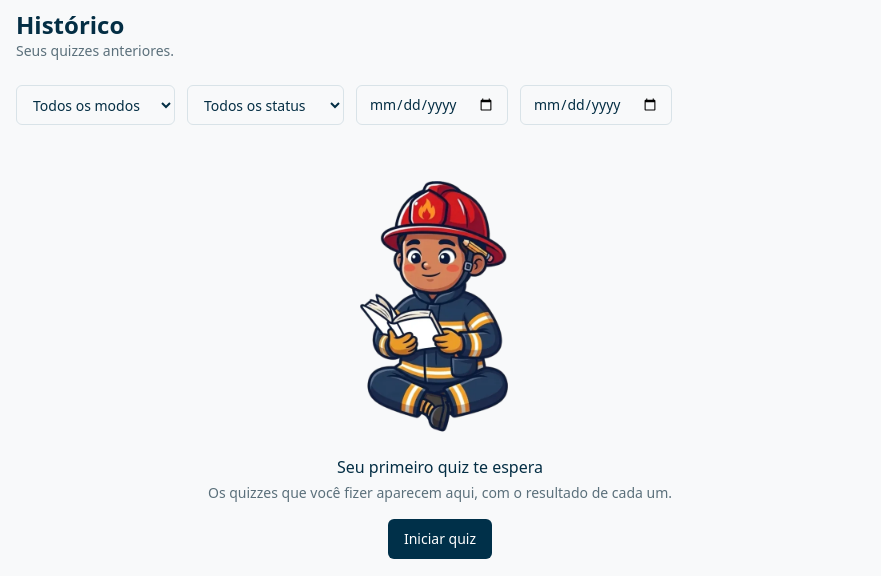
Test: HistoryPage › o filtro de status dispara uma nova busca com o valor certo
The image size is (881, 576).
Expected: the text "Seu primeiro quiz te espera" is shown, x1=337 y1=456 x2=543 y2=478
Select "Abandonado" in the 2nd dropdown showing "Todos os status". click: (266, 105)
box: x1=187 y1=85 x2=344 y2=125
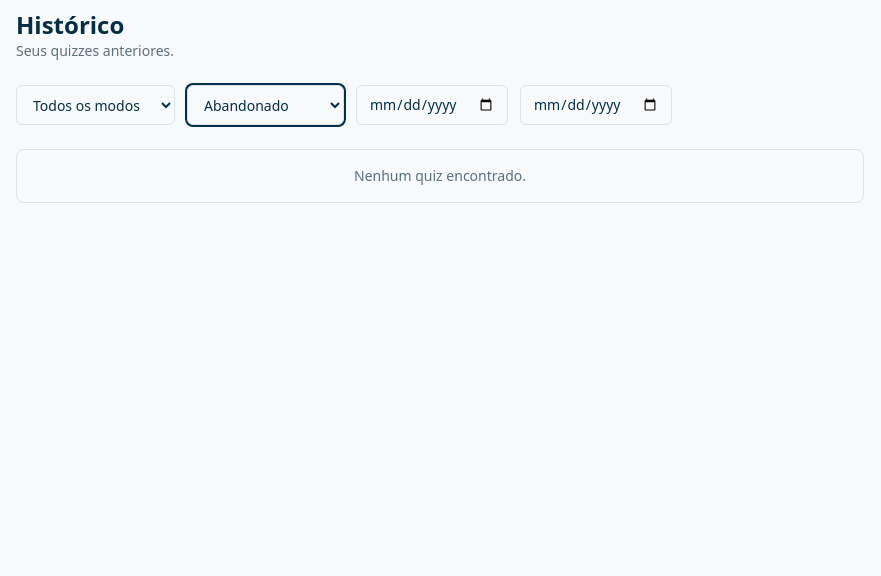
Expected: the text "Nenhum quiz encontrado." is shown, x1=16 y1=149 x2=864 y2=203
Expected: the text "Seu primeiro quiz te espera" is gone
